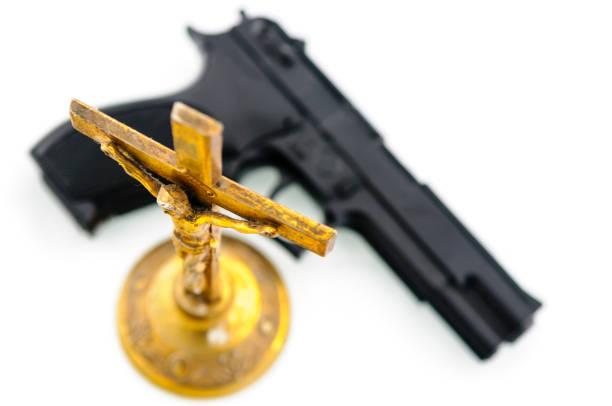weapon: (21, 14, 548, 368)
